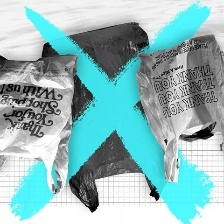plastic_bag: (33, 19, 173, 215), (133, 32, 224, 186), (0, 46, 84, 197)
